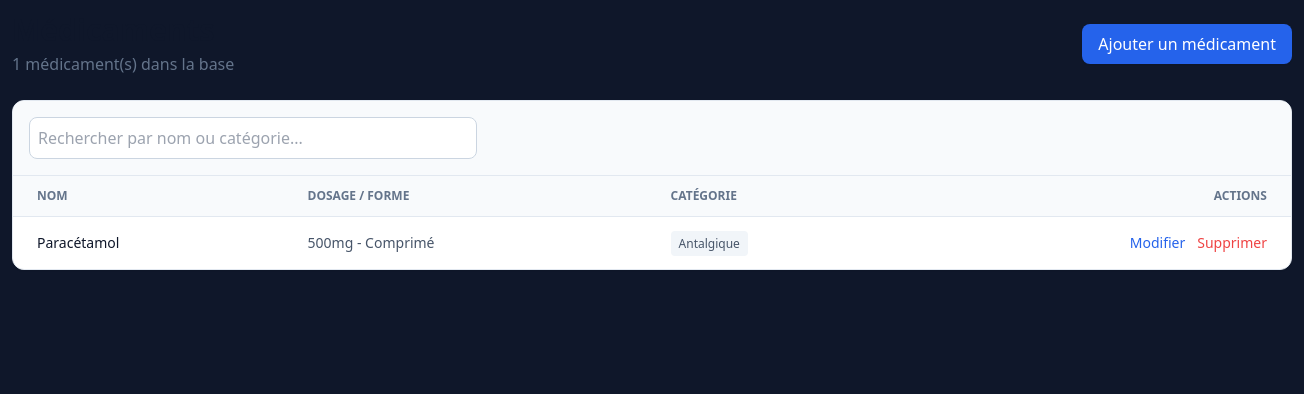
Test case: Medicaments Page › filters drugs based on search input
In the field with placeholder "Rechercher par nom ou catégorie...": (253, 138) [29,117,477,159], type "NonExistentDrug"
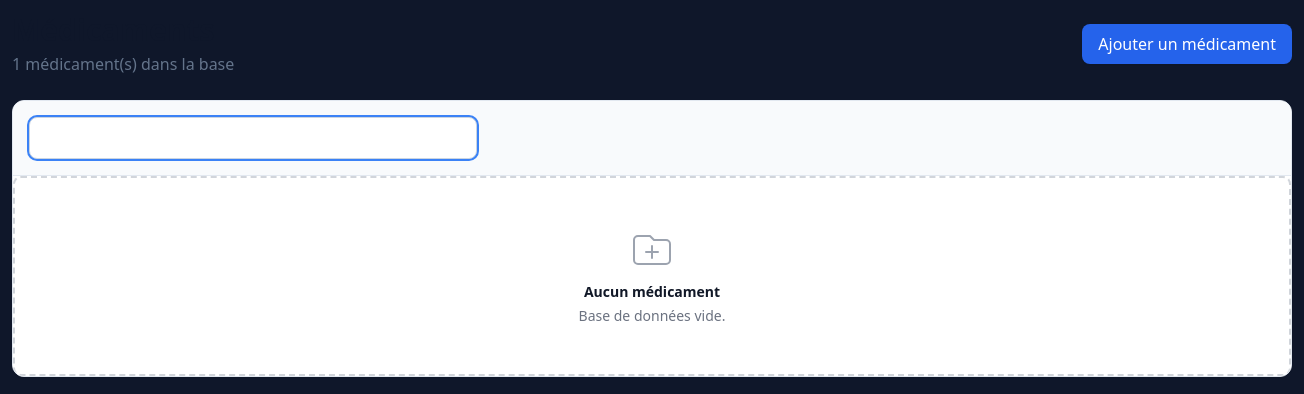
Now the text "Paracétamol" is gone
Now the heading "Aucun médicament" is shown, box [584,282,720,302]
